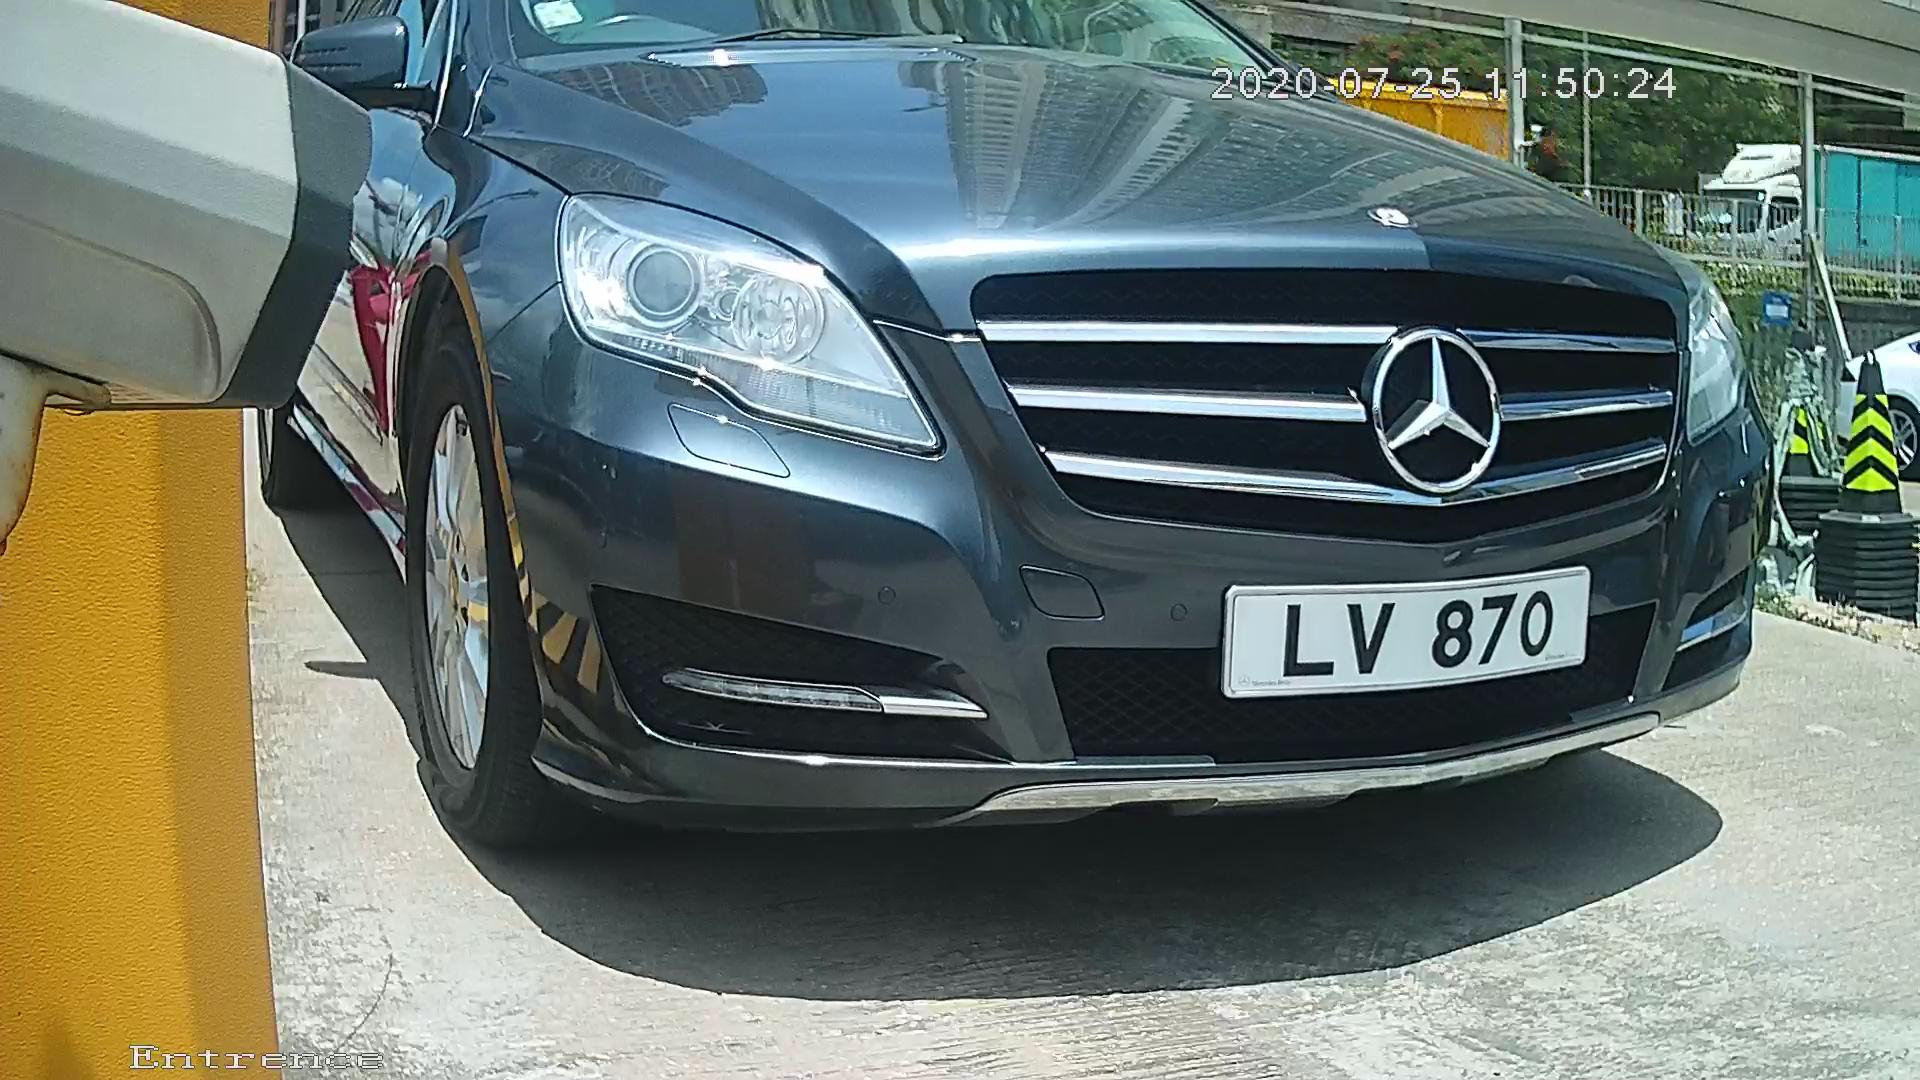Car: (138, 1, 1878, 941)
License Plate: (1201, 555, 1603, 714)
